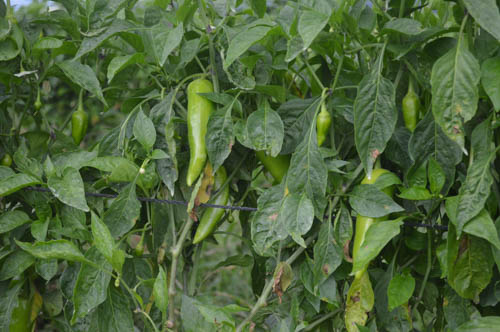ChiliPepper: (355, 170, 393, 281), (179, 81, 216, 189), (188, 166, 228, 241), (256, 139, 292, 187), (401, 94, 424, 134), (308, 111, 330, 147), (69, 111, 89, 145)
